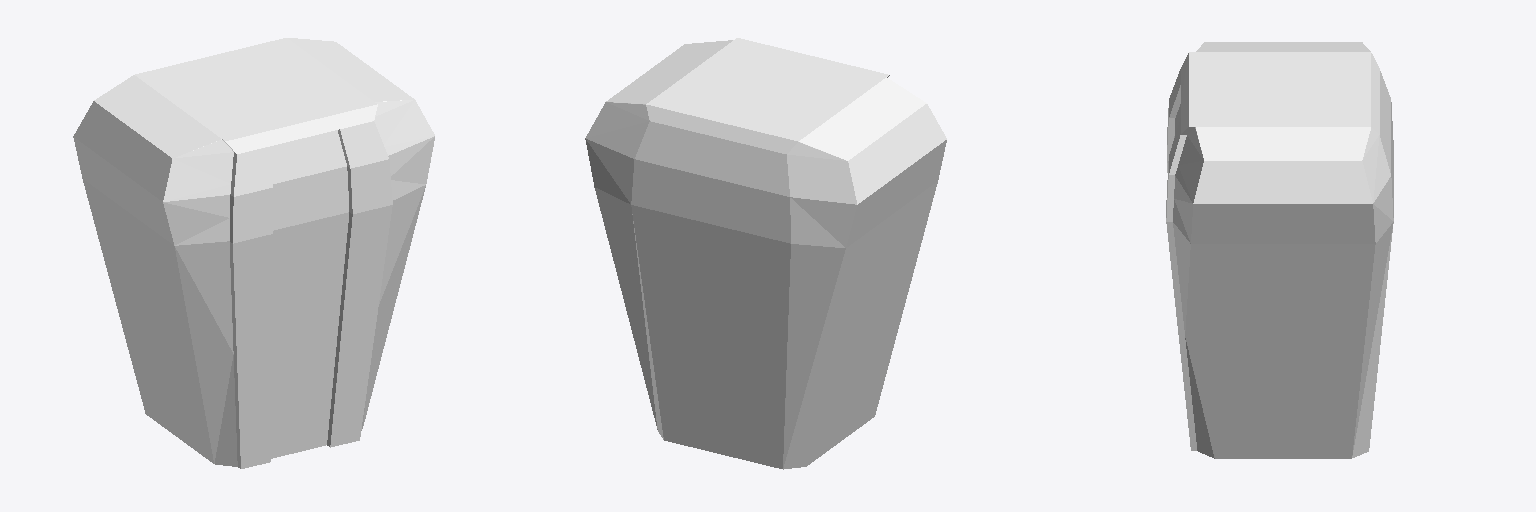
Rendered from Main Body Model.obj.
The picture shows the model from 3 angles: view 1: azimuth 30°, elevation 25°; view 2: azimuth 150°, elevation 25°; view 3: azimuth 270°, elevation 25°; orthographic projection.
Parts seen in each view (by area): view 1: Main Body Model; view 2: Main Body Model; view 3: Main Body Model.
Part boxes in pixels (x1,y1,x2,y2): Main Body Model: (73, 38, 434, 468); Main Body Model: (585, 38, 946, 469); Main Body Model: (1166, 42, 1393, 458).
Bounding box in the file's own units: 1.24 × 1.45 × 0.8957.